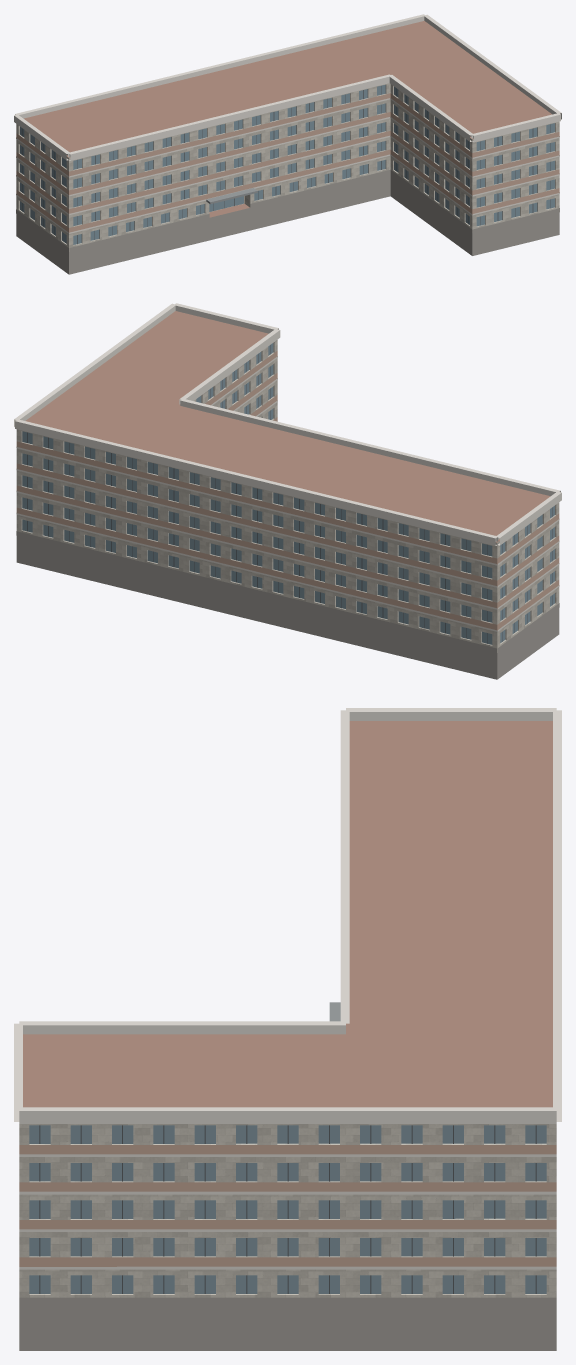
The picture shows the model from 3 angles, top to bottom: view 1: azimuth 30°, elevation 25°; view 2: azimuth 150°, elevation 25°; view 3: azimuth 270°, elevation 25°; orthographic projection. The views are drawn at different scales.
Parts seen in each view (by area): view 1: dorm1__wall, dorm1__roof, dorm1__base, dorm1__trim, dorm1__glass, dorm1__wall2, dorm1__frame; view 2: dorm1__roof, dorm1__wall, dorm1__trim, dorm1__base, dorm1__glass, dorm1__wall2, dorm1__frame; view 3: dorm1__roof, dorm1__wall, dorm1__trim, dorm1__base, dorm1__glass, dorm1__wall2, dorm1__frame.
Part boxes in pixels (x1,y1,x2,y2): dorm1__wall: (16,83,559,251); dorm1__roof: (24,21,551,217); dorm1__base: (16,169,559,274); dorm1__trim: (14,14,561,233); dorm1__glass: (20,84,554,244); dorm1__wall2: (16,93,559,232); dorm1__frame: (22,86,550,244); dorm1__roof: (26,311,550,542); dorm1__wall: (16,340,559,652); dorm1__trim: (14,303,561,631); dorm1__base: (16,531,559,679); dorm1__glass: (22,343,554,644); dorm1__wall2: (16,351,559,630); dorm1__frame: (27,345,552,643); dorm1__roof: (23,721,552,1107); dorm1__wall: (19,1124,556,1297); dorm1__trim: (14,708,561,1269); dorm1__base: (19,1297,556,1350); dorm1__glass: (29,1125,546,1293); dorm1__wall2: (19,1145,556,1266); dorm1__frame: (39,1125,536,1293).
Bounding box in the file's own units: 76.02 × 21.3 × 43.69.
Materials: 9 (1 with a texture image).
